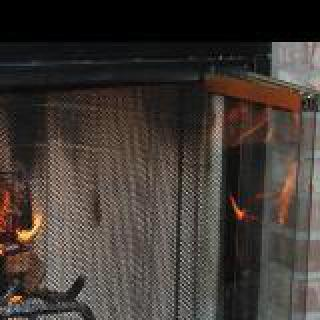fire: (0, 82, 44, 304)
